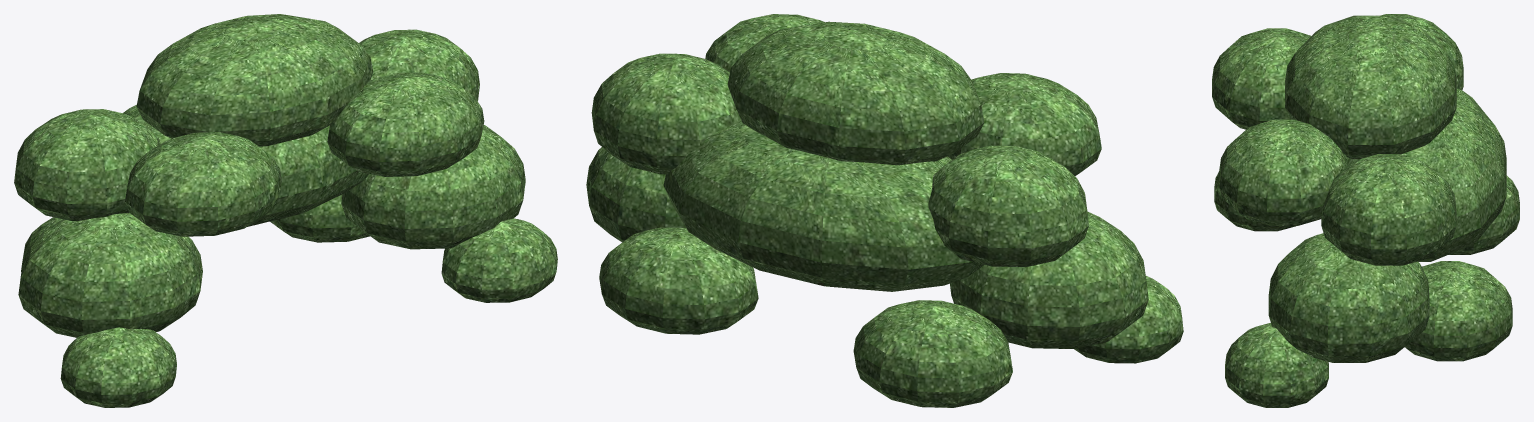
File: canopy.glb
The picture shows the model from 3 angles, left to right: view 1: azimuth 30°, elevation 25°; view 2: azimuth 150°, elevation 25°; view 3: azimuth 270°, elevation 25°; orthographic projection. The views are drawn at different scales.
Parts seen in each view (by area): view 1: solid; view 2: solid; view 3: solid.
Part boxes in pixels (x1,y1,x2,y2): solid: (14,14,557,407); solid: (586,14,1183,407); solid: (1212,14,1519,407).
Size of the model in its own units: 305 by 174 by 171.
Materials: 1 (1 with a texture image).
